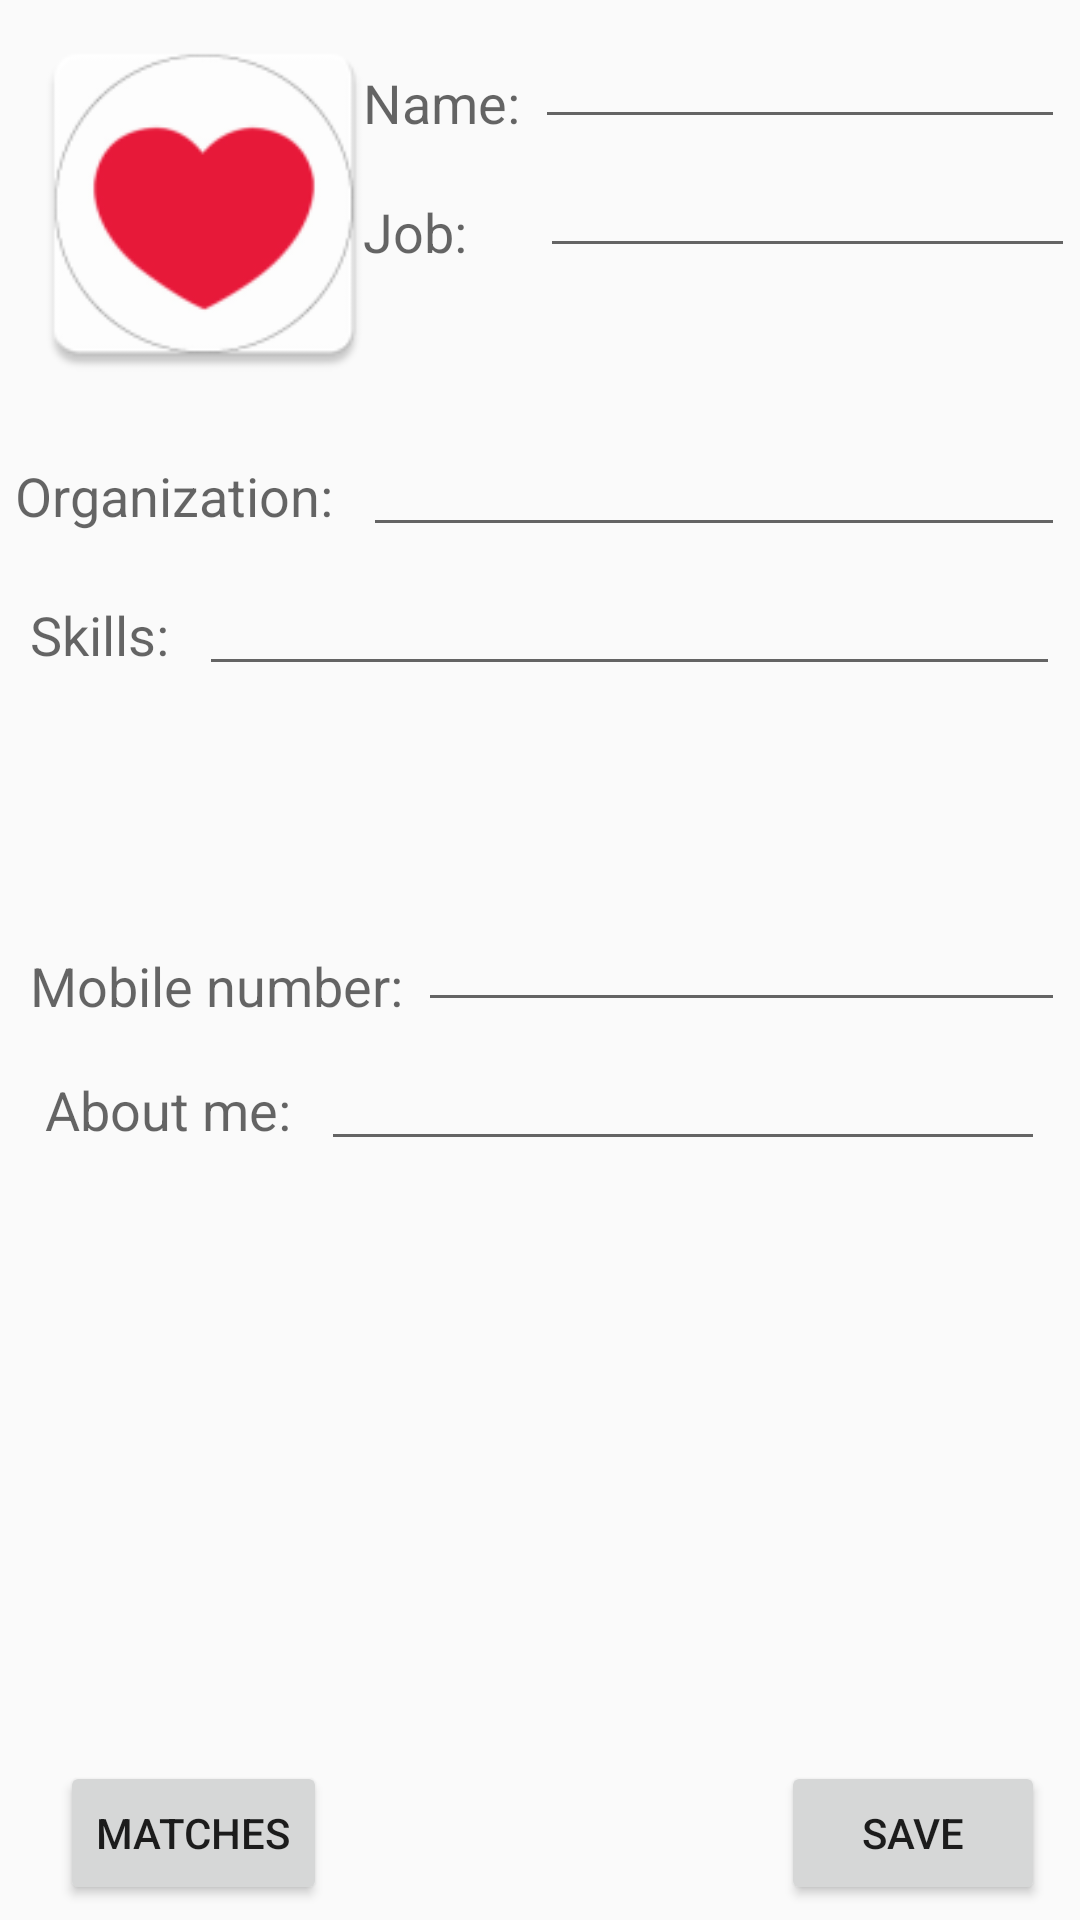

Where to tap for icons on this 1080px×1920px app screen, as (x,y):
heart: (223,208)
